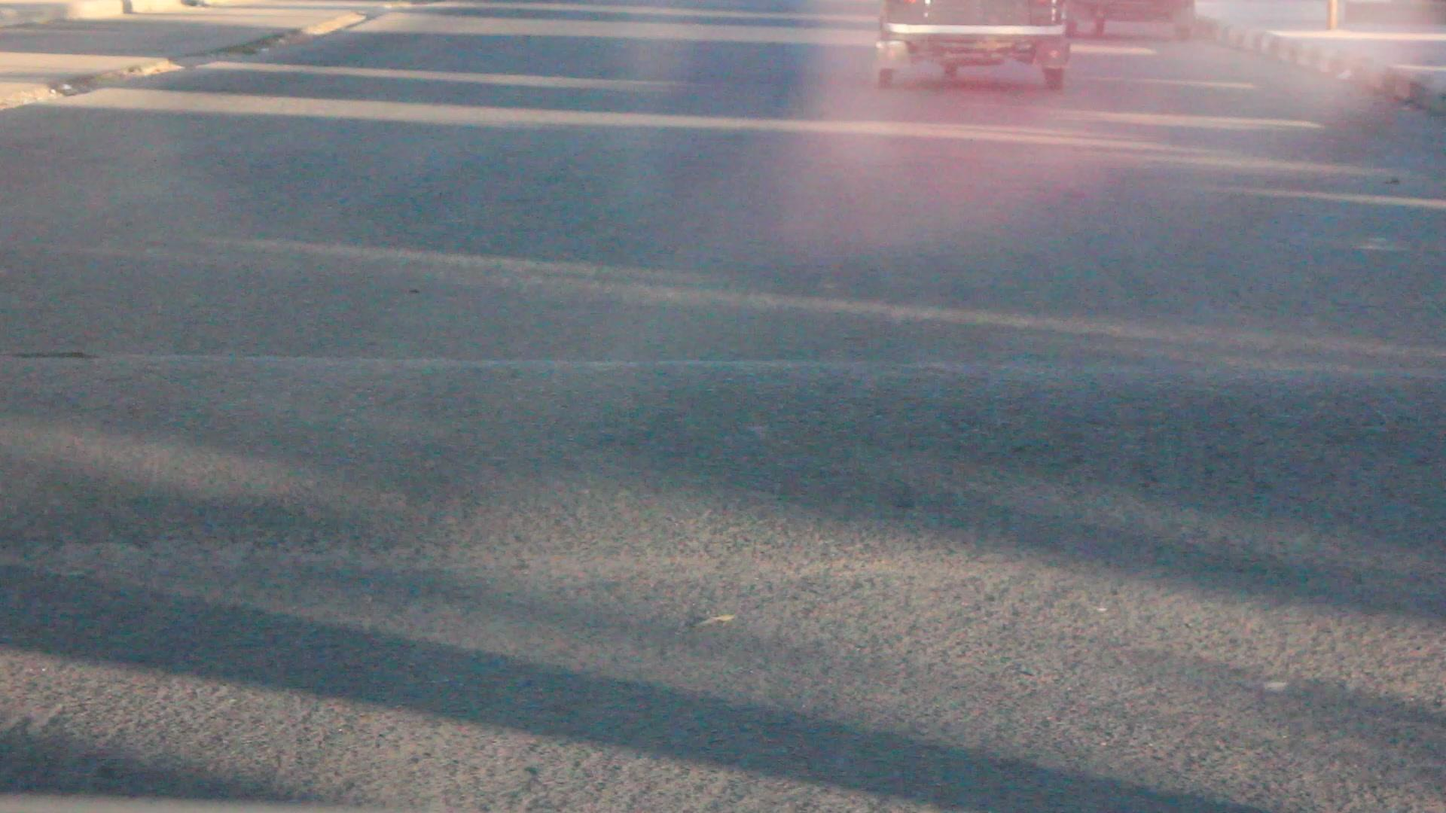Bump: (6, 346, 1446, 523)
